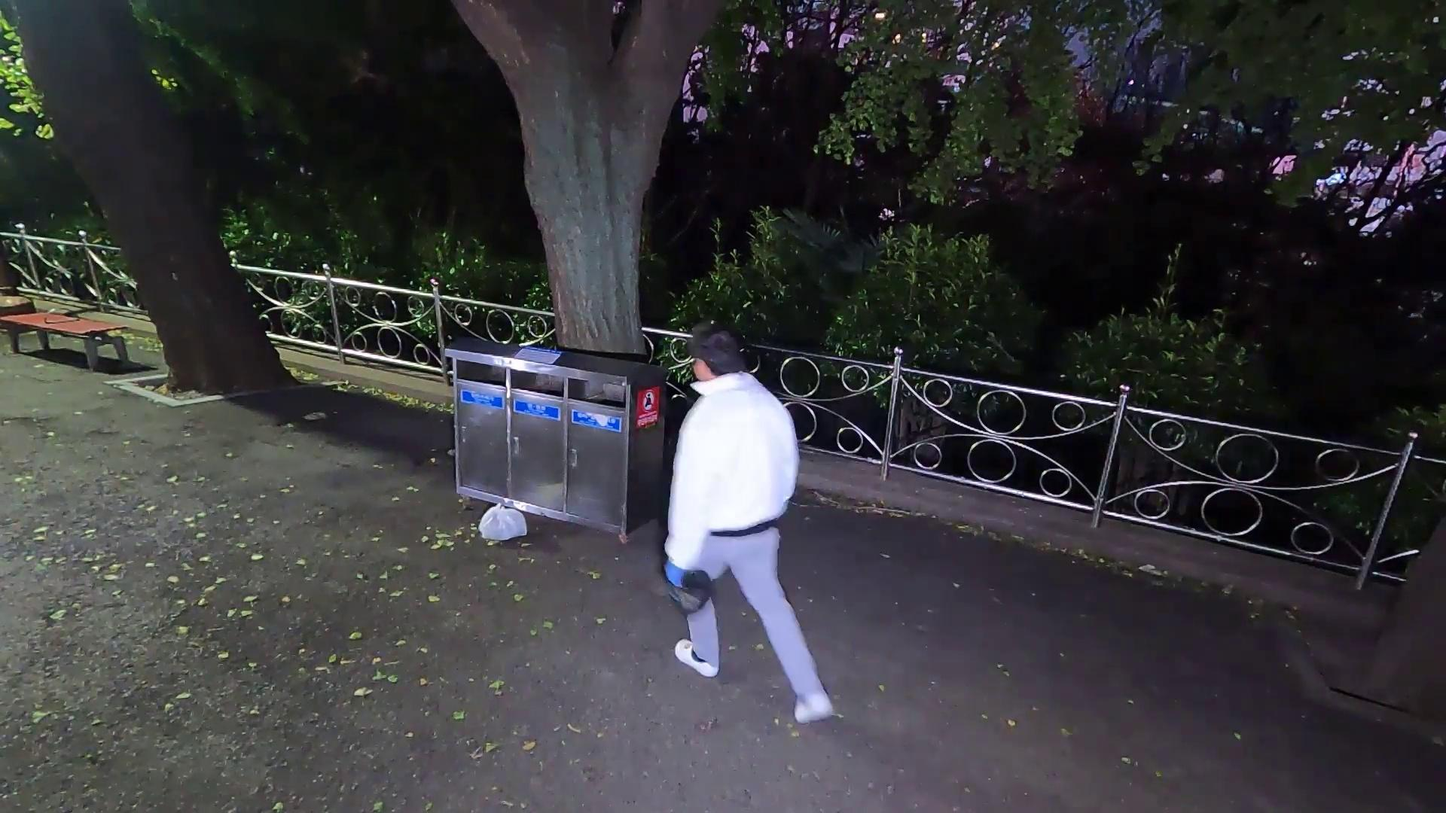person: (665, 326, 836, 733)
trash: (478, 493, 528, 549), (667, 567, 714, 613)
